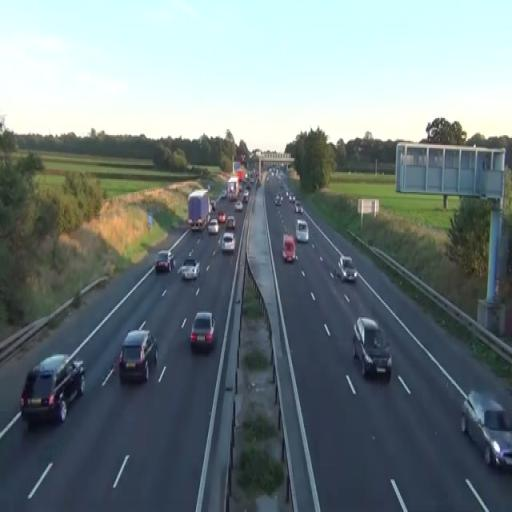Car: (20, 353, 86, 425), (460, 390, 512, 472), (352, 317, 392, 380), (118, 330, 158, 384), (190, 312, 218, 352), (338, 255, 358, 284), (178, 257, 200, 281), (154, 250, 175, 274), (295, 218, 309, 242), (221, 232, 235, 253), (208, 218, 218, 234)
Truck: (20, 353, 86, 426), (188, 190, 210, 232), (226, 176, 240, 202)
